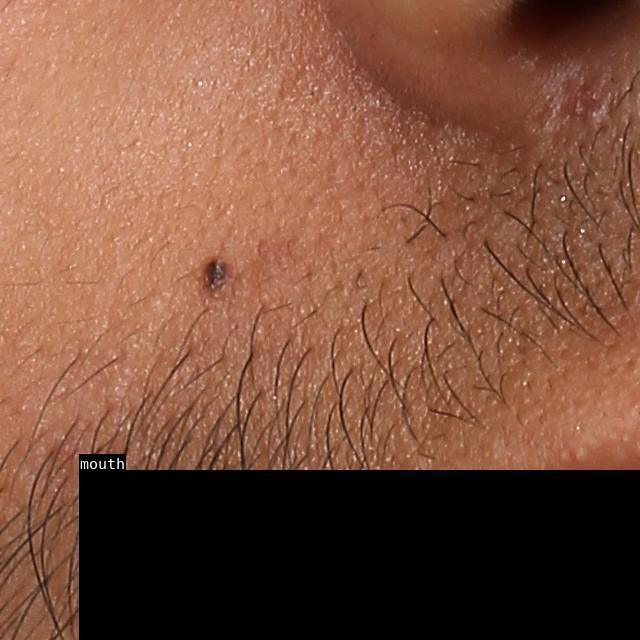nevus: (195, 251, 232, 305)
